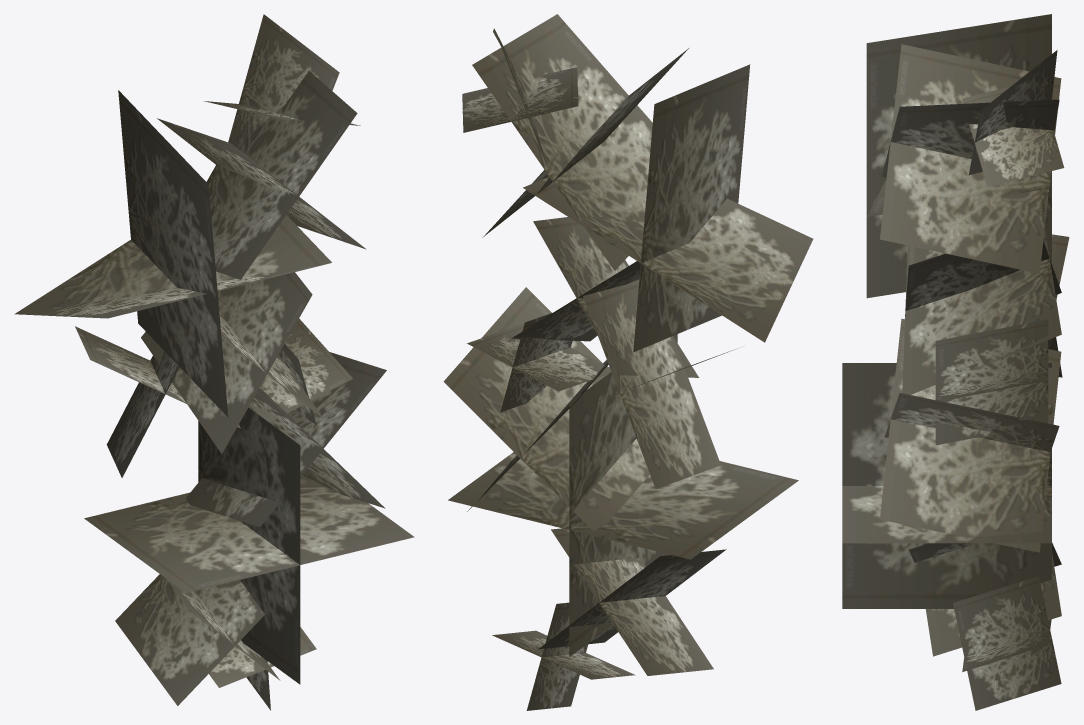
File: tdr_h_bush_c.obj
3 renders of one model, left to right at view 1: azimuth 30°, elevation 25°; view 2: azimuth 150°, elevation 25°; view 3: azimuth 270°, elevation 25°, orthographic. The views are drawn at different scales.
Parts seen in each view (by area): view 1: tdr_h_bush_c.001; view 2: tdr_h_bush_c.001; view 3: tdr_h_bush_c.001.
Part boxes in pixels (x1=…): tdr_h_bush_c.001: x1=14, y1=14, x2=414, y2=710; tdr_h_bush_c.001: x1=443, y1=14, x2=813, y2=710; tdr_h_bush_c.001: x1=842, y1=14, x2=1069, y2=710.
Size of the model in its own units: 469 by 935 by 284.
1 material, 1 textured.
